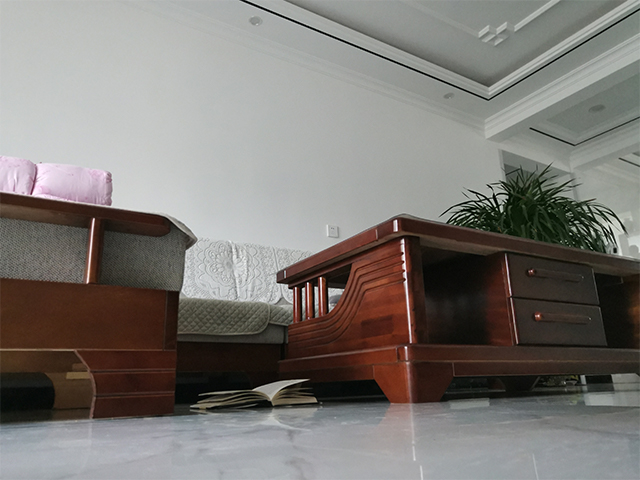book: (187, 376, 319, 413)
sofa: (1, 194, 293, 420)
table: (273, 209, 640, 406)
